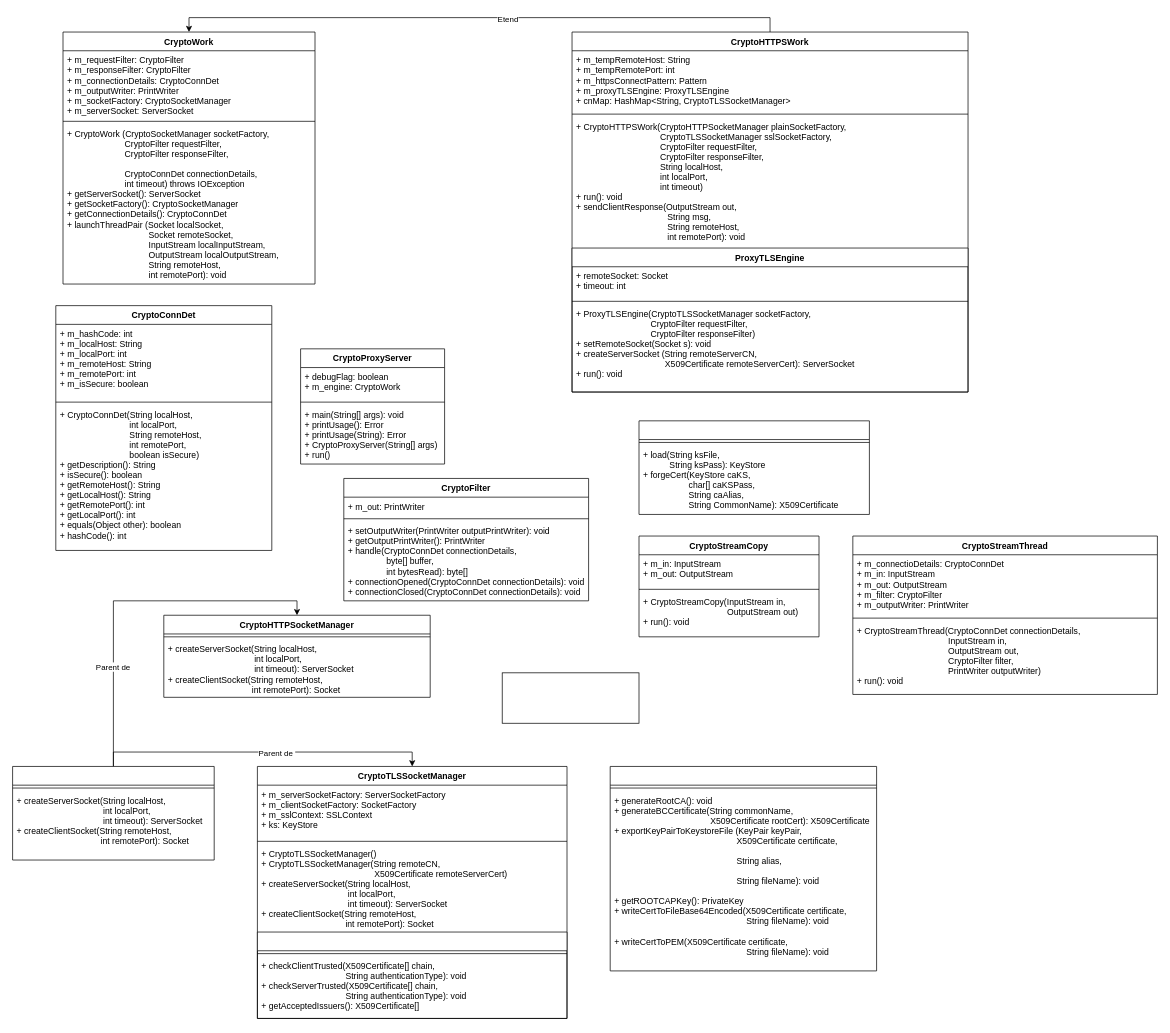
Image size: 1170x1033. Some labels were removed from this diagram. The shapes that lost their labels are listed below. From the top down, each one's box as (x1, y1, x2, y2) in pixels, then its label:
(638, 420, 869, 514): CryptoSignCert
(501, 672, 639, 723): <<Interface>> TLSHackConstants Constants of the program
(12, 766, 214, 860): CryptoSocketManager
(609, 766, 877, 971): CryptoX509
(257, 931, 567, 1018): TrustEveryone impl. X509TrustManager
